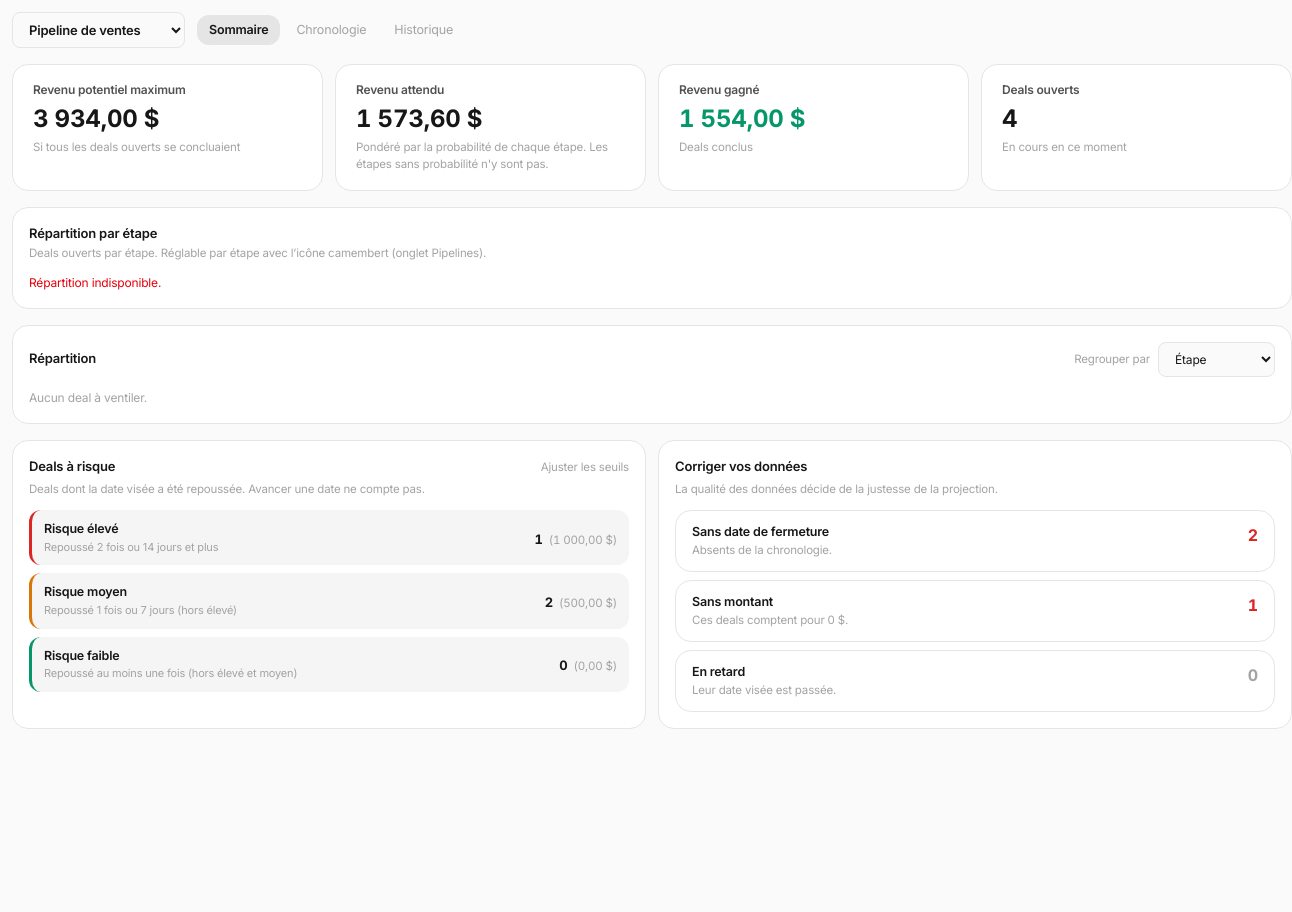
Scenario: prévisions — chronologie › explique quoi faire quand aucun deal n'a de date
This screenshot has width=1292, height=912.
Click the tab "Chronologie" at (331, 30), box [284,15,378,45]
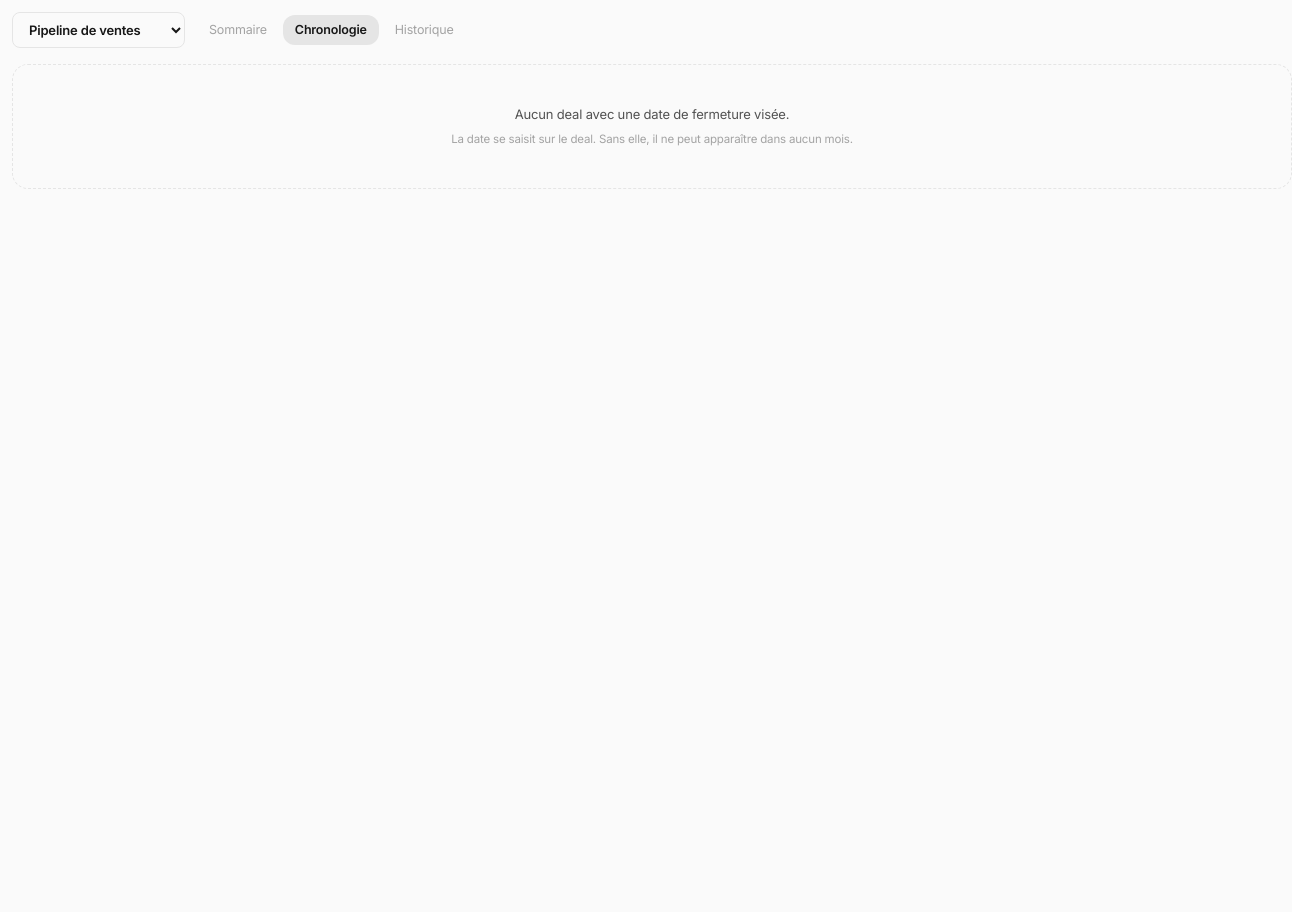
Now the text "Aucun deal avec une date" is shown, box [515,106,789,122]
